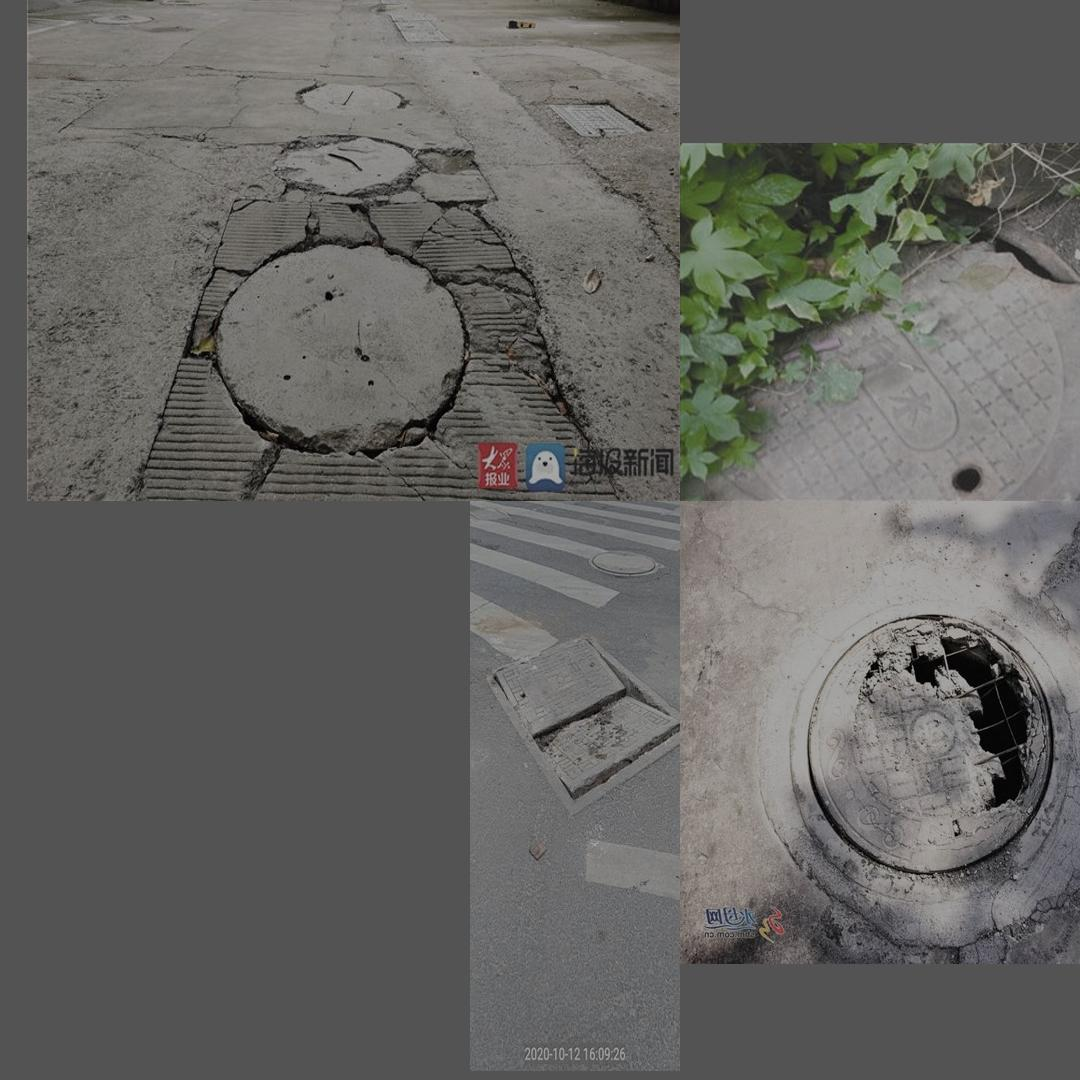broke: (171, 168, 556, 481), (740, 586, 1080, 931), (684, 206, 1080, 501), (487, 604, 675, 827)
